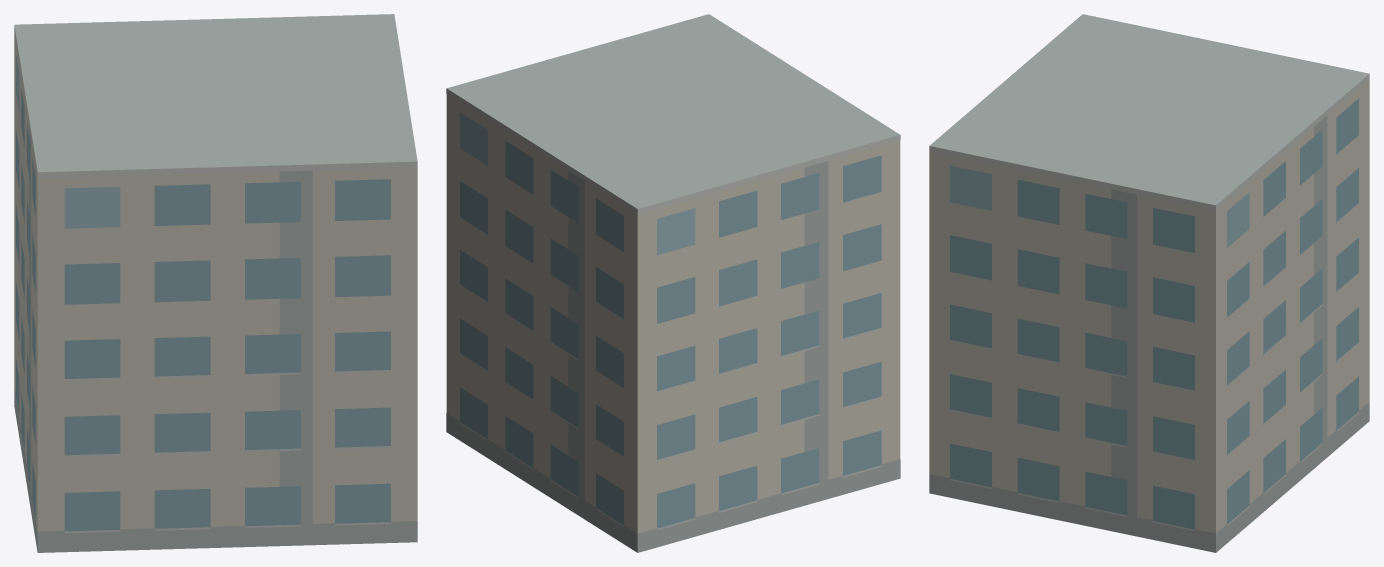
Rendered from residential-515fb959-8963-45fe-87e3-4ad2bf0e71fa.glb.
3 renders of one model, left to right at view 1: azimuth 30°, elevation 25°; view 2: azimuth 150°, elevation 25°; view 3: azimuth 270°, elevation 25°, orthographic. The views are drawn at different scales.
Visible parts, largest first — view 1: residential-515fb959-8963-45fe-87e3-4ad2bf0e71fa.tmp; view 2: residential-515fb959-8963-45fe-87e3-4ad2bf0e71fa.tmp; view 3: residential-515fb959-8963-45fe-87e3-4ad2bf0e71fa.tmp.
Part boxes in pixels (<box>): residential-515fb959-8963-45fe-87e3-4ad2bf0e71fa.tmp: <box>14,14,417,552</box>; residential-515fb959-8963-45fe-87e3-4ad2bf0e71fa.tmp: <box>446,14,900,552</box>; residential-515fb959-8963-45fe-87e3-4ad2bf0e71fa.tmp: <box>929,14,1369,552</box>.
Size of the model in its own units: 18.02 by 15.25 by 17.52.
